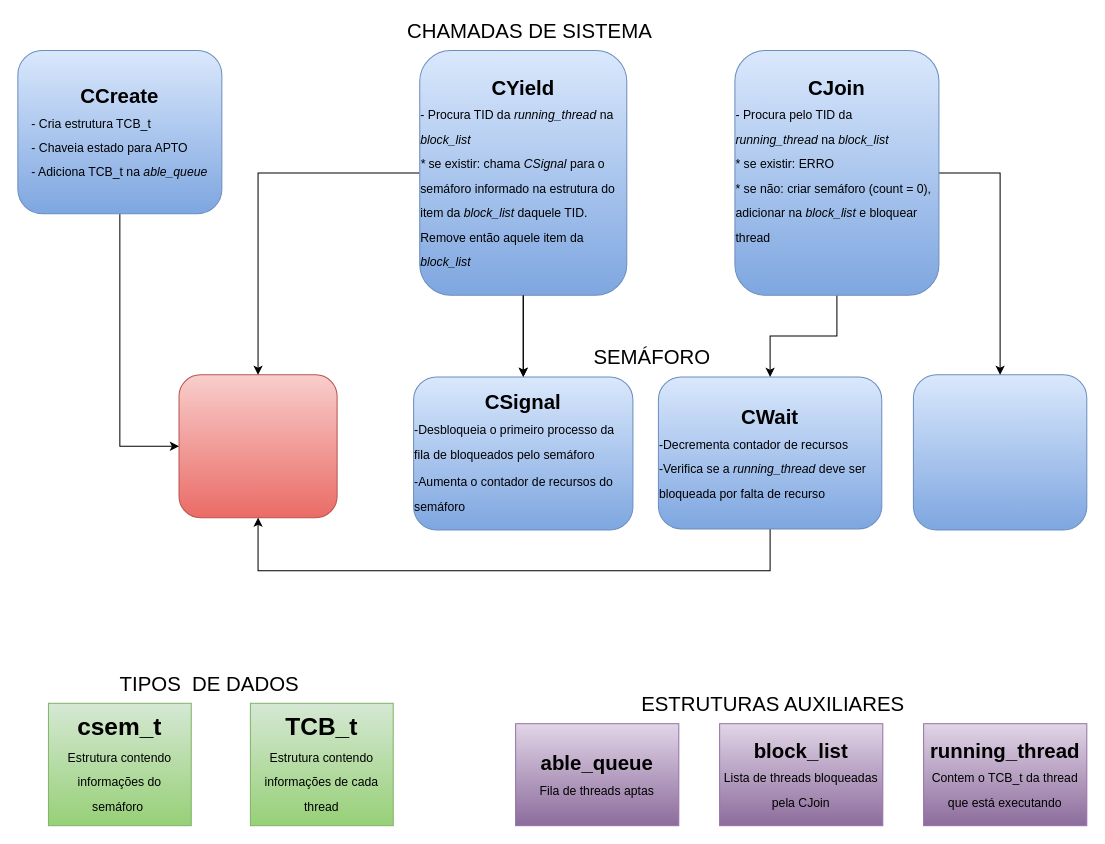
The diagram is 1105 pixels wide and 844 high, and some of its shapes have lost their labels. Here are the shapes that lost their labels. From the top down, the centre of each, then its label:
At [257,446]: "Dispatcher - Sorteio ticket - Chaveamento de able_queue <-> running_thread".
At [999,452]: "CSem_init -Inicializa contador de recursos do semáforo".
